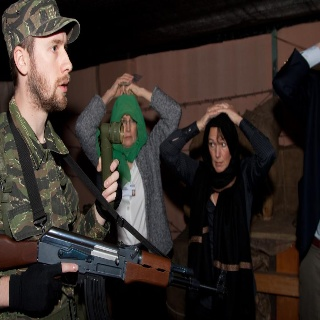rifle: (1, 226, 231, 304)
